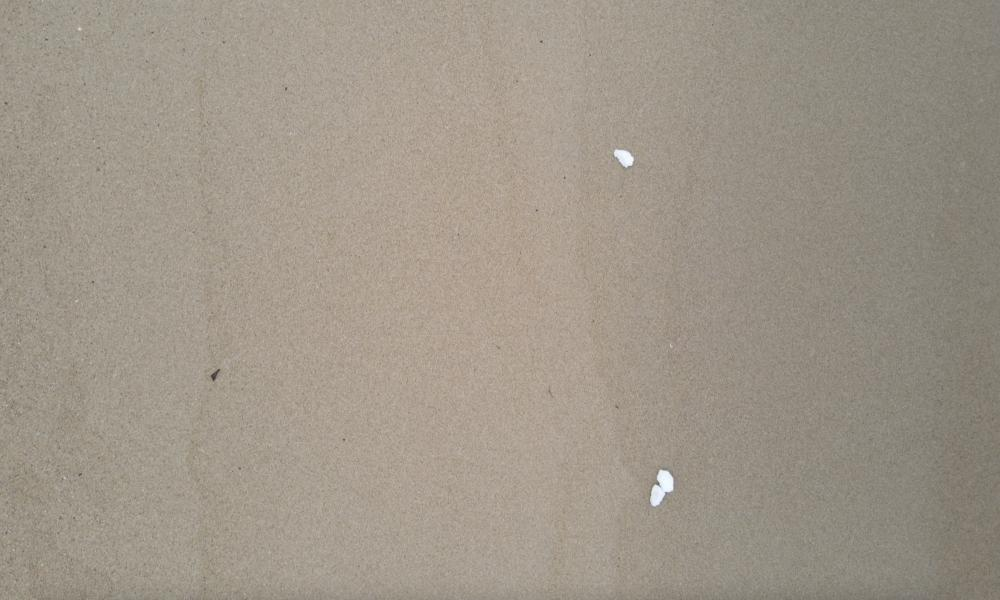styrofoam: (651, 467, 673, 505), (614, 144, 634, 169)
